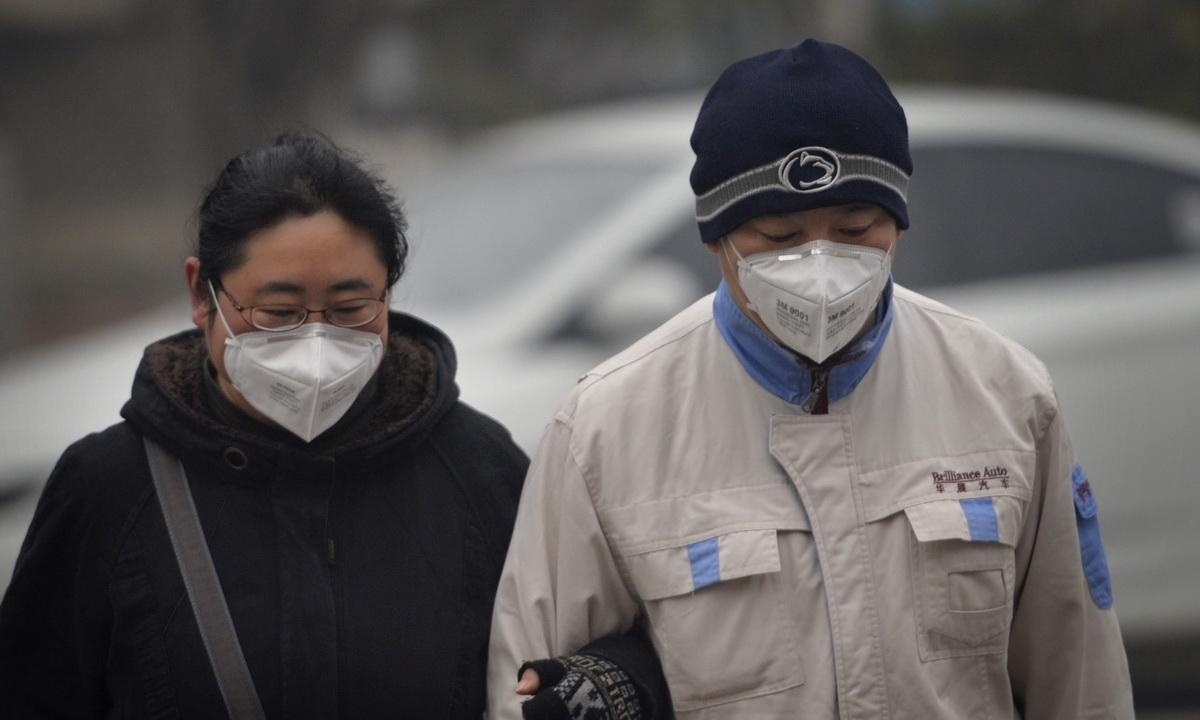Mask: (229, 267, 399, 438)
